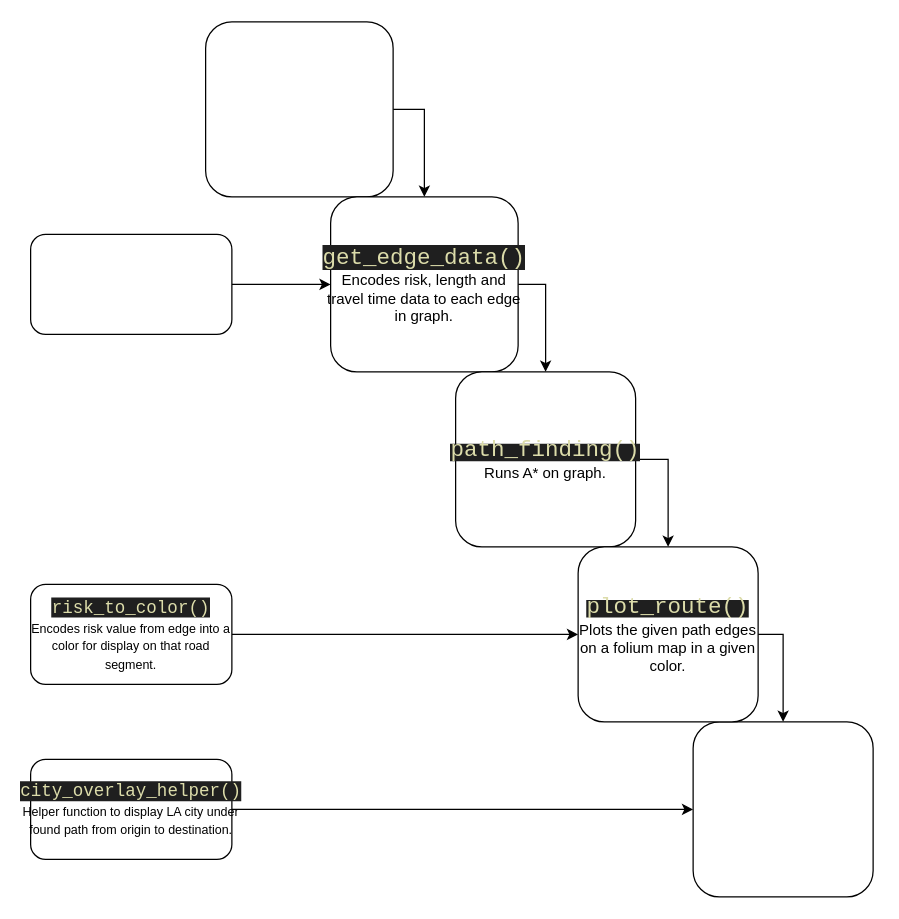
Some shapes in this 899 by 919 pixel diagram are drawn without their labels. Each missing label, with the centre of its shape:
"load_graph() Implemented caching and local download." belongs at (298,109).
"parse_maxspeed() Encodes max speed data into the edge from different formats." belongs at (130,283).
"VisualizeMap () Plots the given path edges on a folium map in a given color." belongs at (782,809).
